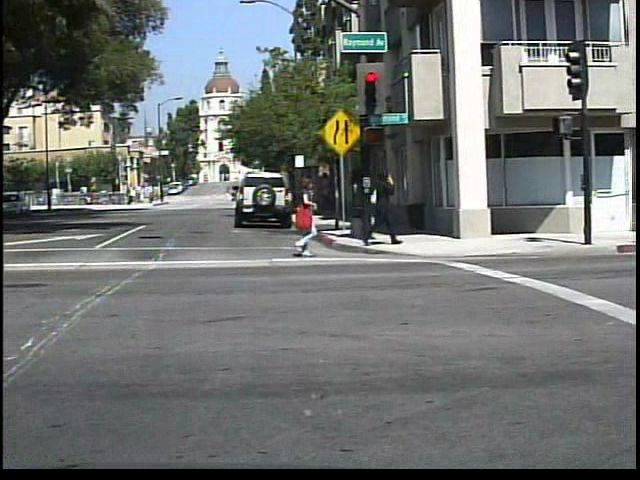person: (364, 162, 407, 248), (291, 172, 328, 260)
